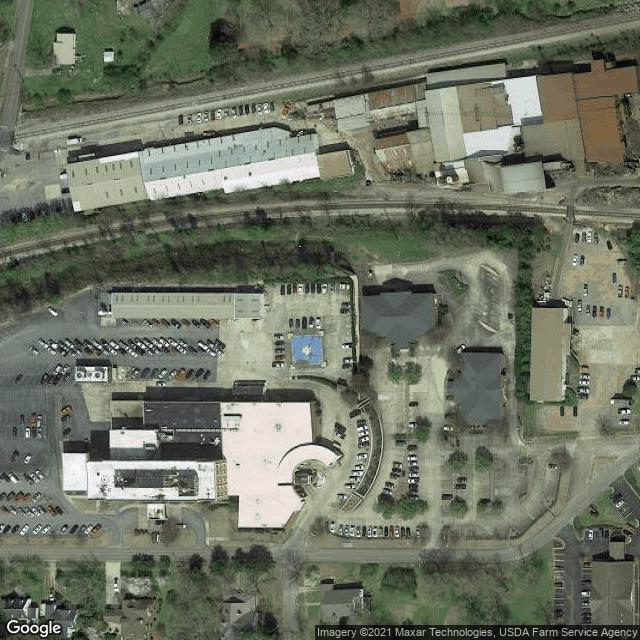Helipad: (287, 335, 328, 367)
